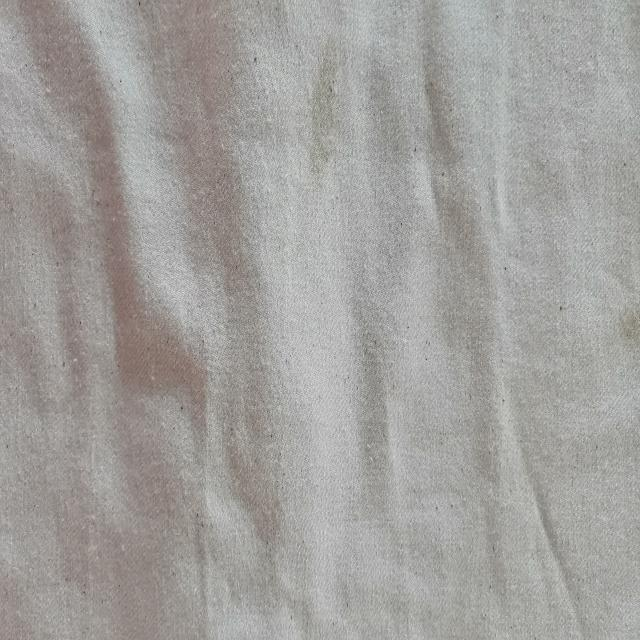taaaches: (303, 28, 351, 194), (613, 278, 638, 362)
